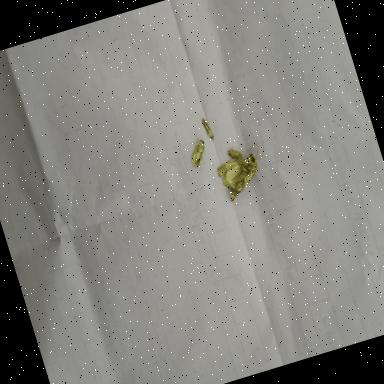abw: (210, 134, 278, 204)
pbw: (184, 127, 212, 168), (201, 116, 214, 140)
